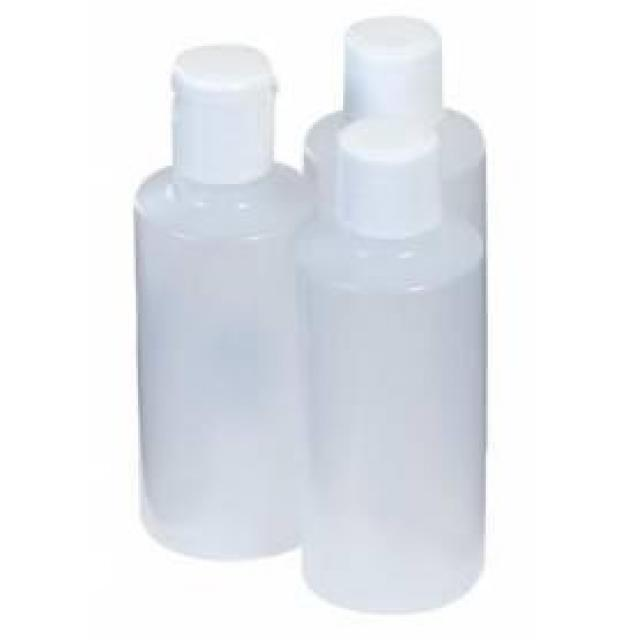plastic_bottle: (128, 45, 317, 572), (305, 116, 494, 620), (310, 13, 499, 245)
